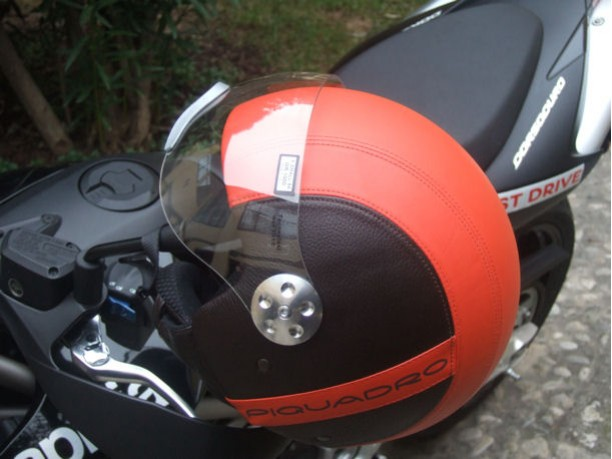helmet: (181, 84, 525, 429)
